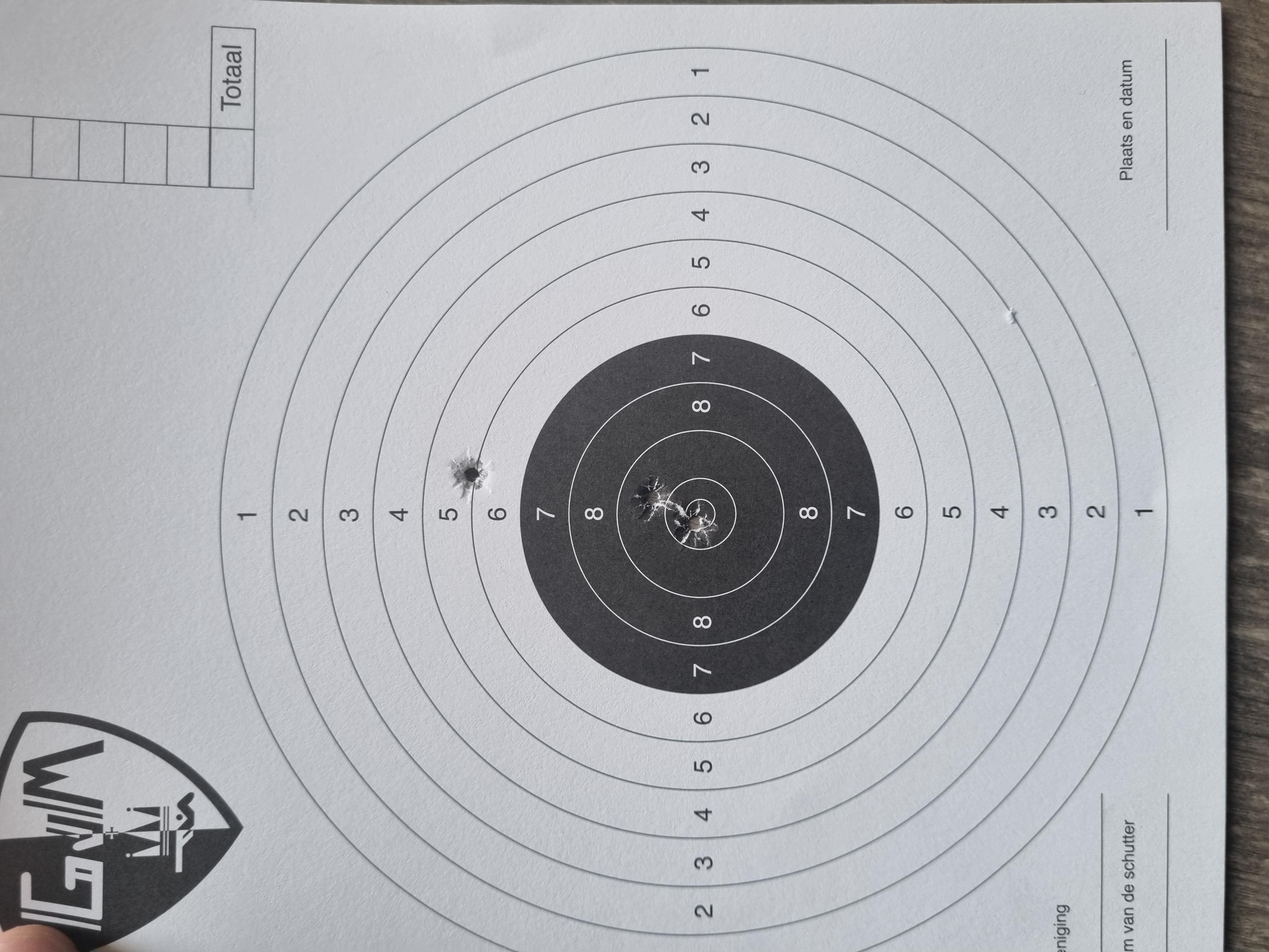hole: (535, 502, 600, 539), (570, 475, 634, 507), (607, 337, 663, 366)
